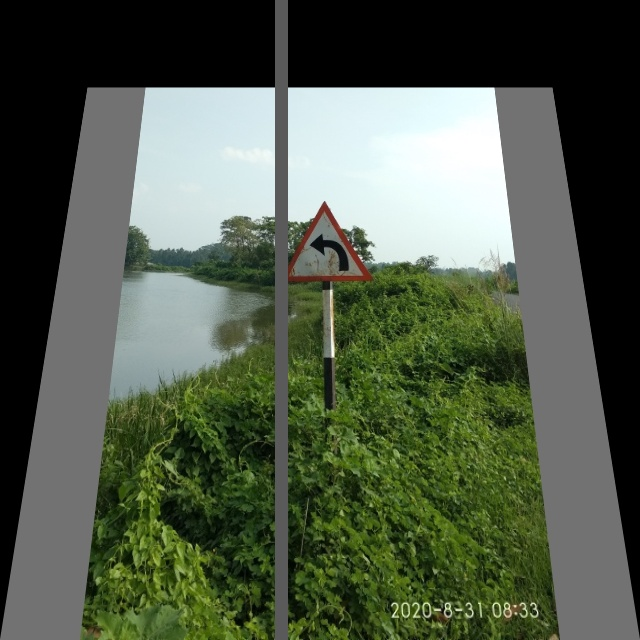Left_Hand_Curve: (276, 199, 374, 286)
